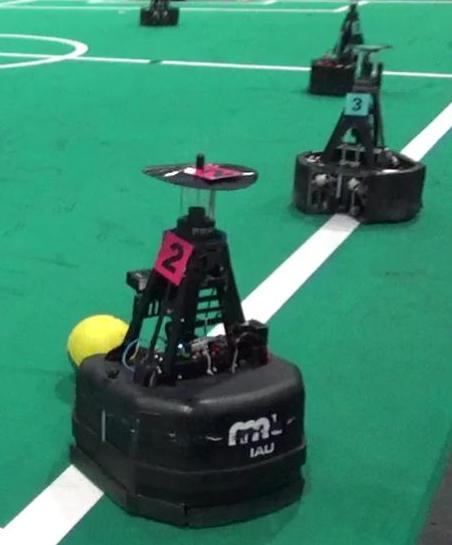robot: (66, 154, 309, 526), (290, 41, 428, 228)
